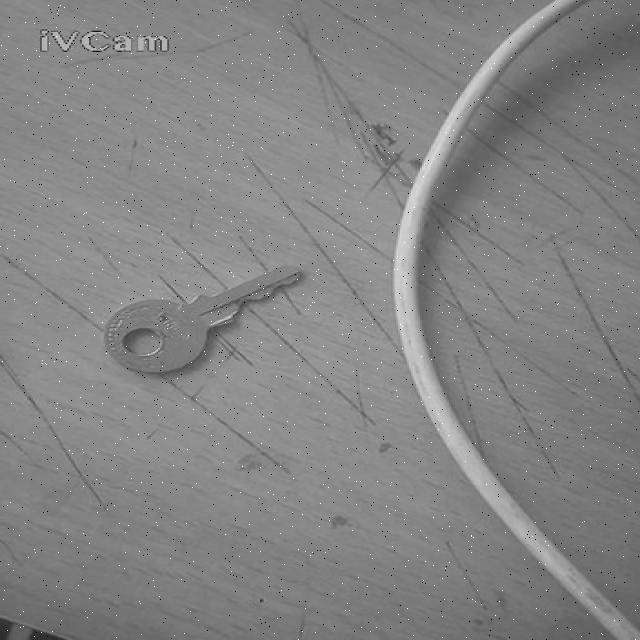key: (104, 268, 299, 373)
